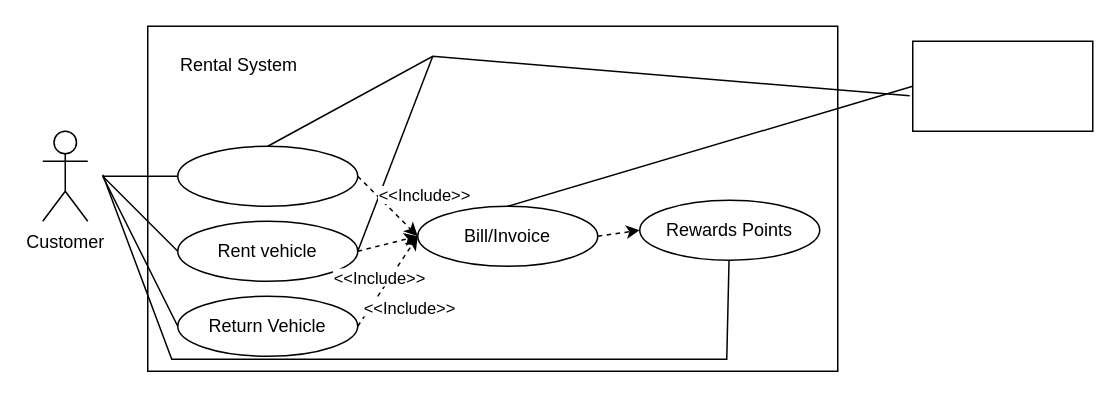
This 1119x398 diagram has some shape labels left out. Here are the shapes that lost their labels. From the top down, the box of each, then its label:
(911, 40, 1093, 131): <<actor>> Inventory Manger
(176, 145, 358, 206): Transaction
